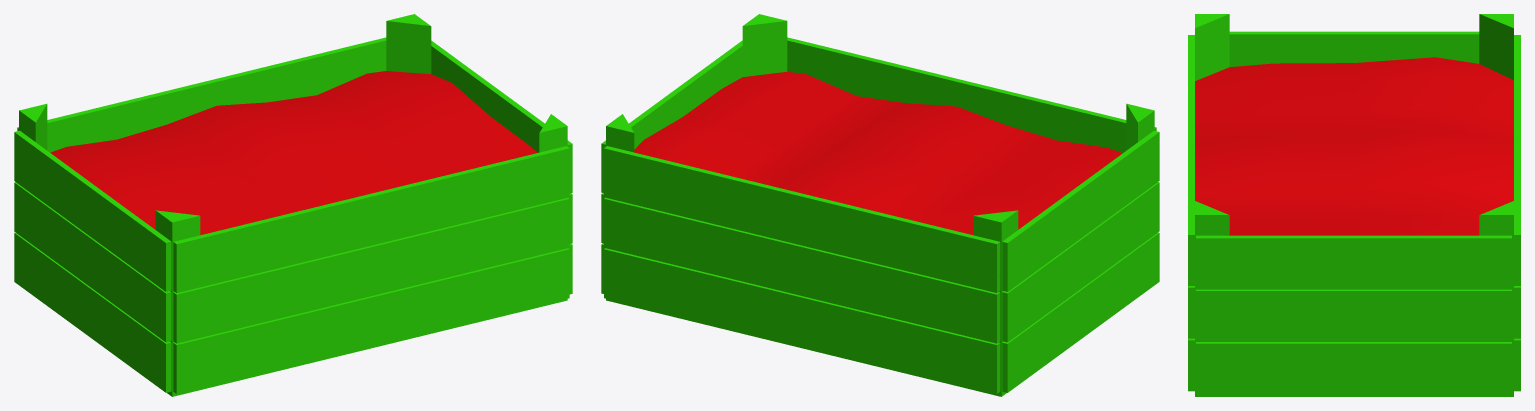
File: box_full.fbx
3 renders of one model, left to right at view 1: azimuth 30°, elevation 25°; view 2: azimuth 150°, elevation 25°; view 3: azimuth 270°, elevation 25°, orthographic. The views are drawn at different scales.
Parts seen in each view (by area): view 1: A2_low, A5_low, A4_low, A1_low; view 2: A2_low, A5_low, A4_low, A1_low; view 3: A2_low, A5_low, A4_low, A1_low.
Part boxes in pixels (left/top/right/bottom): A2_low: left=14, top=37, right=572, bottom=393; A5_low: left=50, top=71, right=537, bottom=235; A4_low: left=19, top=14, right=567, bottom=391; A1_low: left=167, top=299, right=567, bottom=396; A2_low: left=601, top=37, right=1159, bottom=393; A5_low: left=634, top=71, right=1122, bottom=276; A4_low: left=606, top=14, right=1154, bottom=391; A1_low: left=606, top=298, right=1006, bottom=396; A2_low: left=1188, top=31, right=1520, bottom=394; A5_low: left=1195, top=57, right=1513, bottom=235; A4_low: left=1195, top=14, right=1513, bottom=391; A1_low: left=1195, top=392, right=1513, bottom=396.
Size of the model in its own units: 337 by 138 by 229.
